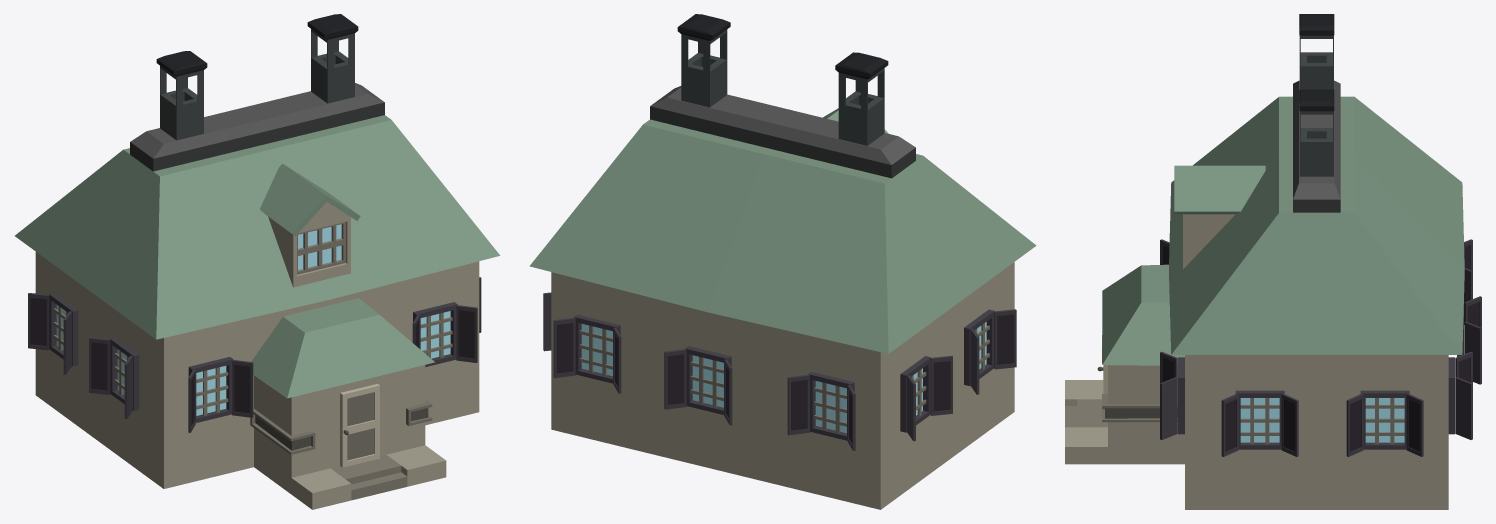
The model's file is NeoclassıcalCottage1950.fbx.
The picture shows the model from 3 angles, left to right: view 1: azimuth 30°, elevation 25°; view 2: azimuth 150°, elevation 25°; view 3: azimuth 270°, elevation 25°; orthographic projection. The views are drawn at different scales.
Visible parts, largest first — view 1: Cube; view 2: Cube; view 3: Cube.
Boxes of the visible parts, x1,y1,x2,y2 form: Cube: [15, 14, 500, 509]; Cube: [529, 14, 1036, 509]; Cube: [1065, 14, 1481, 509].
Bounding box in the file's own units: 659 × 641 × 650.
